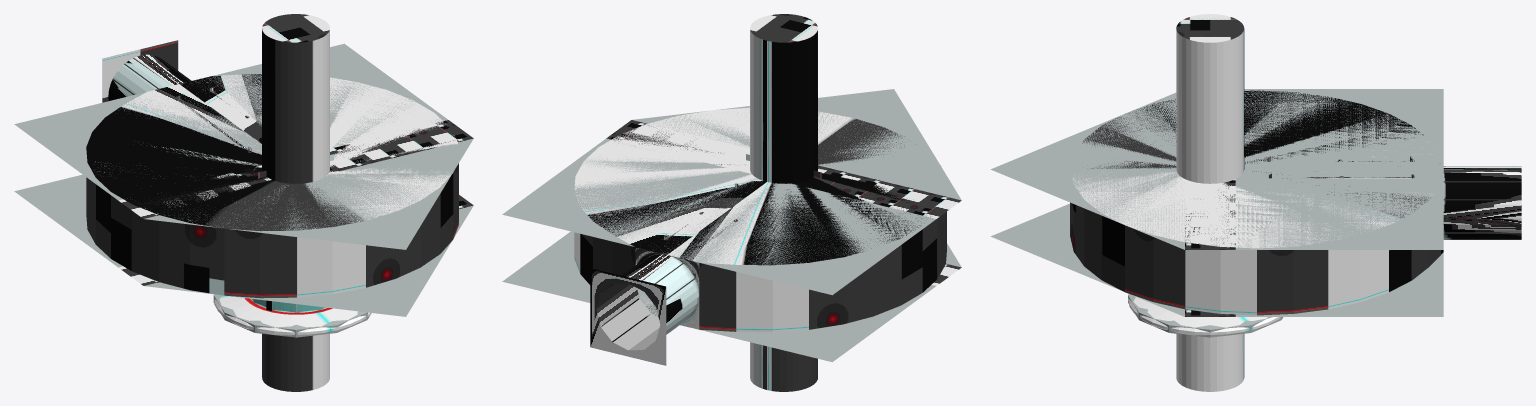
Rendered from components.fbx.
3 renders of one model, left to right at view 1: azimuth 30°, elevation 25°; view 2: azimuth 150°, elevation 25°; view 3: azimuth 270°, elevation 25°, orthographic.
Visible parts, largest first — view 1: estacion, colEstacion, pantallas, tubo, colTubo, puerta; view 2: colEstacion, estacion, pantallas; view 3: colEstacion, estacion, pantallas, tubo, colTubo.
Part boxes in pixels (box(x1,y1,x2,y2)): estacion: box(86, 14, 457, 391); colEstacion: box(14, 43, 473, 316); pantallas: box(86, 163, 458, 298); tubo: box(214, 295, 371, 335); colTubo: box(213, 294, 370, 337); puerta: box(102, 40, 178, 102); colEstacion: box(502, 89, 961, 365); estacion: box(574, 14, 931, 391); pantallas: box(574, 211, 946, 332); colEstacion: box(990, 89, 1521, 316); estacion: box(1072, 14, 1521, 391); pantallas: box(1070, 202, 1443, 315); tubo: box(1128, 297, 1280, 335); colTubo: box(1128, 294, 1283, 337).
Bounding box in the file's own units: 1960 × 1980 × 2730.
